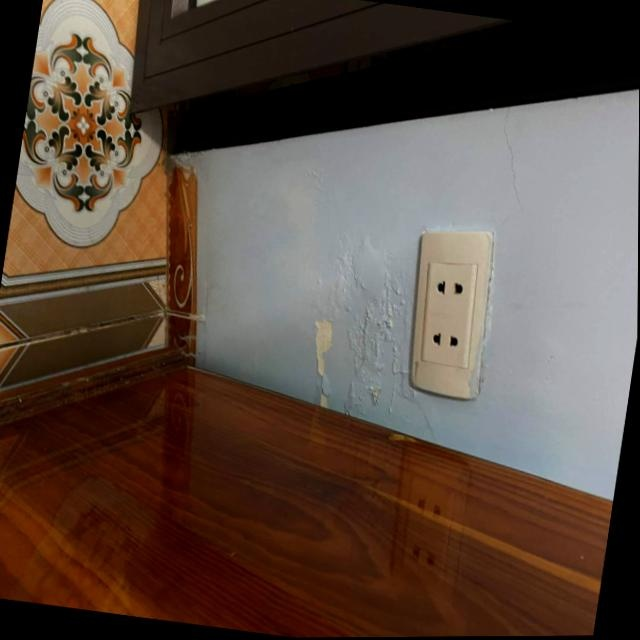outlet: (397, 220, 504, 403)
